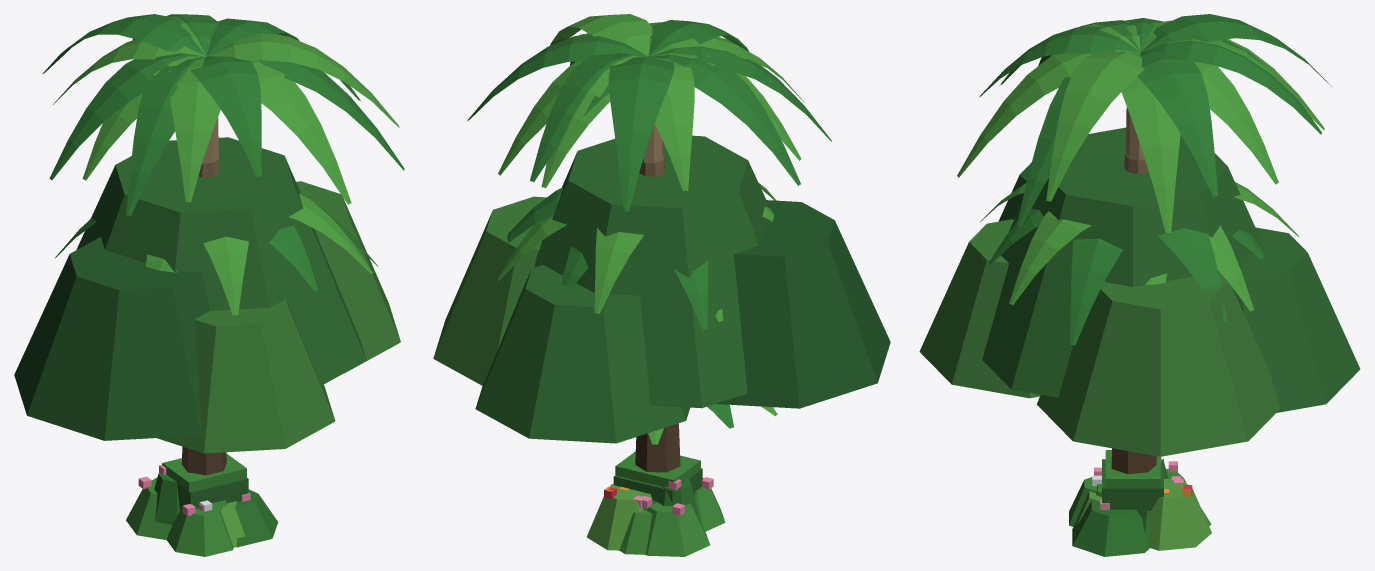
File: veg.glb
The picture shows the model from 3 angles, left to right: view 1: azimuth 30°, elevation 25°; view 2: azimuth 150°, elevation 25°; view 3: azimuth 270°, elevation 25°; orthographic projection. The views are drawn at different scales.
Parts seen in each view (by area): view 1: oak, palm_tall, shrub_b, palm_medium, hedge, shrub_a; view 2: oak, palm_tall, shrub_a, palm_medium, hedge, shrub_b, palm_small; view 3: oak, palm_tall, palm_medium, shrub_b, shrub_a, hedge.
Part boxes in pixels (x1,y1,x2,y2): oak: [14, 137, 400, 475]; palm_tall: [42, 14, 404, 216]; shrub_b: [154, 465, 278, 556]; palm_medium: [55, 193, 377, 315]; hedge: [162, 453, 248, 509]; shrub_a: [126, 476, 171, 539]; oak: [433, 135, 890, 472]; palm_tall: [466, 14, 831, 211]; shrub_a: [587, 484, 709, 556]; palm_medium: [485, 183, 776, 329]; hedge: [613, 451, 702, 502]; shrub_b: [658, 477, 725, 531]; palm_small: [648, 404, 777, 444]; oak: [919, 127, 1360, 474]; palm_tall: [957, 14, 1331, 233]; palm_medium: [980, 182, 1298, 345]; shrub_b: [1069, 457, 1168, 556]; shrub_a: [1142, 461, 1211, 550]; hedge: [1102, 450, 1163, 517].
Bounding box in the file's own units: 6.8 × 7.95 × 6.4.
